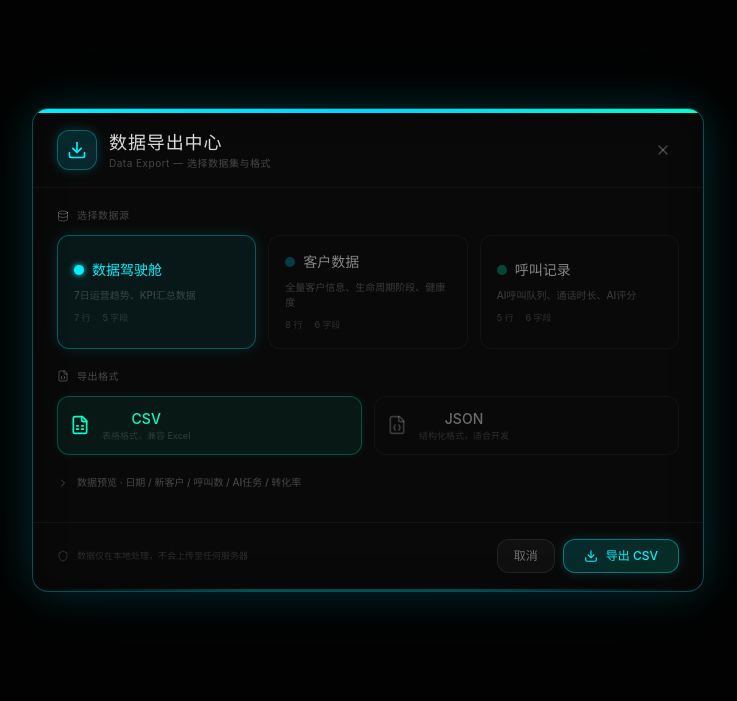
Scenario: DataExportModal — 交互 › 点击预览可展开数据预览表格
Click the button "数据预览 · 日期 / 新客户 / 呼叫数 / AI任务 / 转化率": (179, 482) x1=57 y1=475 x2=301 y2=490
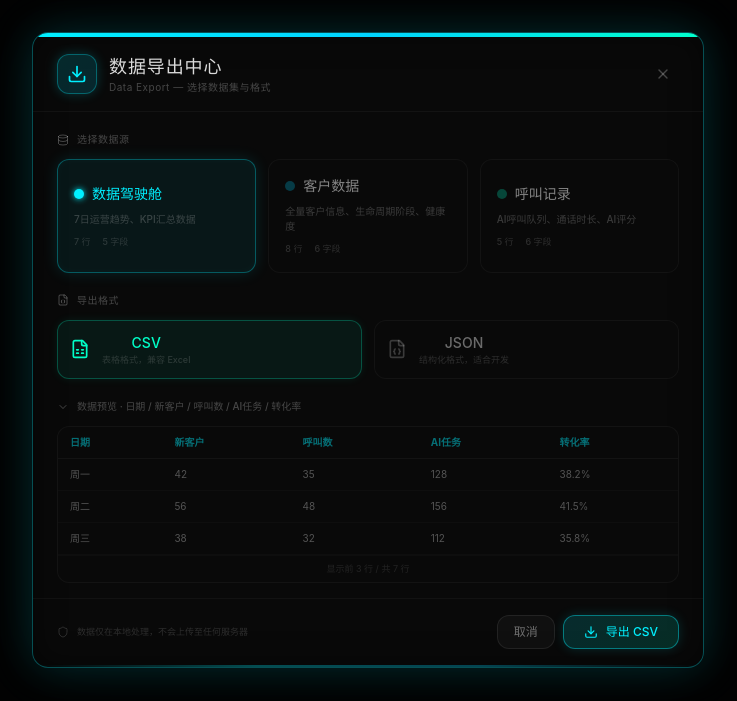
Expected: the column heading "新客户" is shown, x1=162 y1=427 x2=291 y2=458
Expected: the column heading "呼叫数" is shown, x1=291 y1=427 x2=419 y2=458
